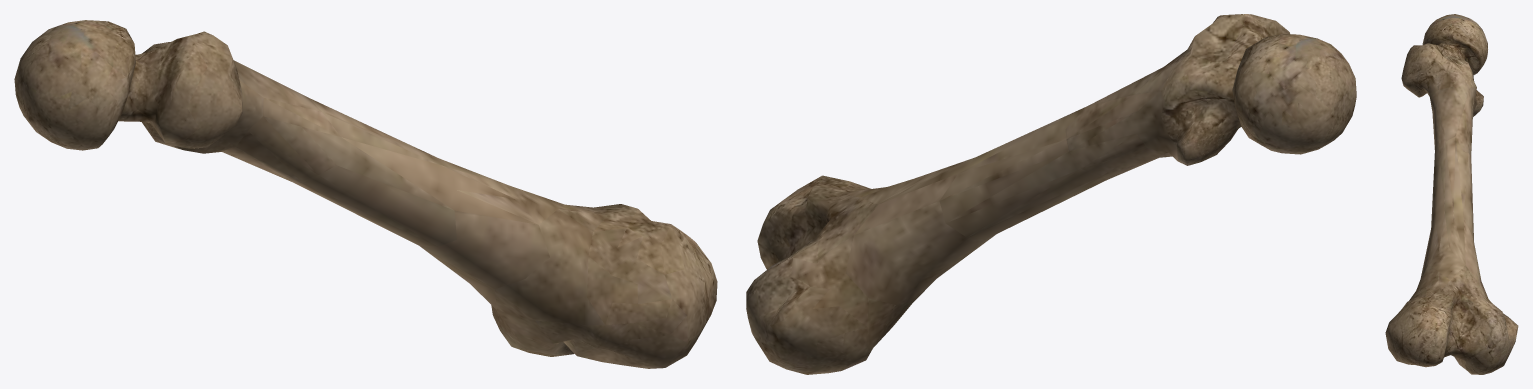
The model's file is h_bone_A.glb.
The picture shows the model from 3 angles, left to right: view 1: azimuth 30°, elevation 25°; view 2: azimuth 150°, elevation 25°; view 3: azimuth 270°, elevation 25°; orthographic projection. The views are drawn at different scales.
Parts seen in each view (by area): view 1: h_bone_A; view 2: h_bone_A; view 3: h_bone_A.
Boxes of the visible parts, box(x1,y1,x2,y2) form: h_bone_A: box(14, 20, 717, 368); h_bone_A: box(746, 14, 1356, 374); h_bone_A: box(1385, 14, 1518, 374).
Bounding box in the file's own units: 0.707 × 0.4791 × 0.2498.
1 material, 1 textured.
